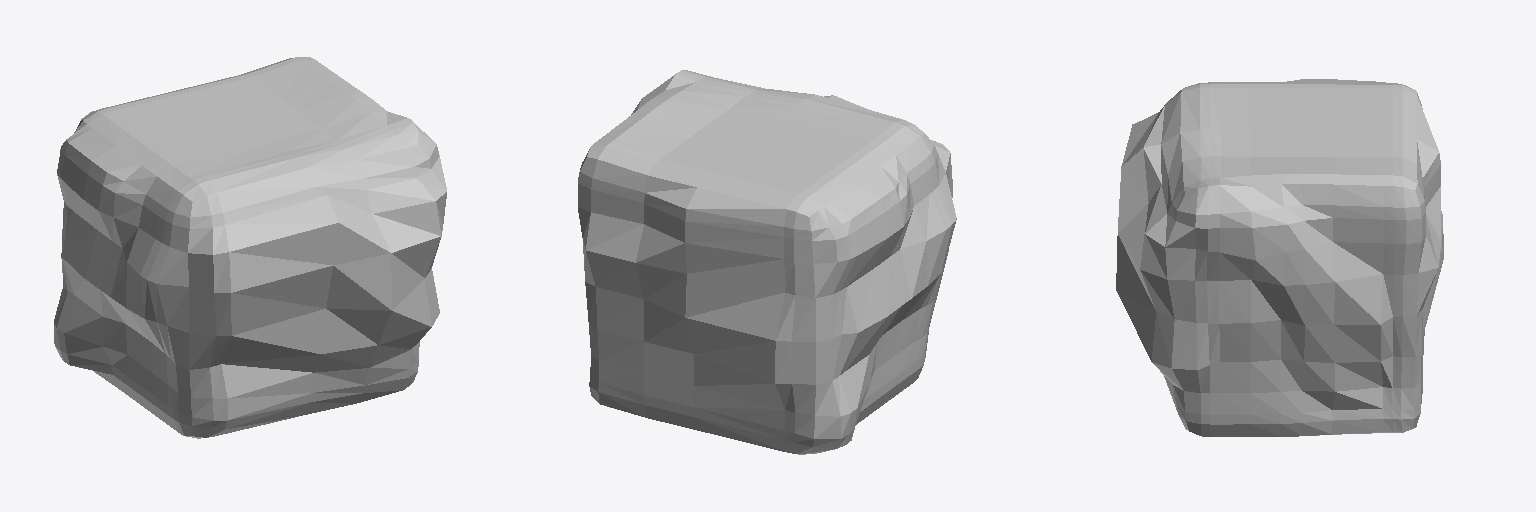
The model's file is env_level1_Canyon_Rock02.obj.
3 views of the same model, side by side, from view 1: azimuth 30°, elevation 25°; view 2: azimuth 150°, elevation 25°; view 3: azimuth 270°, elevation 25° (orthographic).
Parts seen in each view (by area): view 1: rockwall_a01; view 2: rockwall_a01; view 3: rockwall_a01.
Boxes of the visible parts, box(x1,y1,x2,y2) form: rockwall_a01: box(54, 57, 446, 438); rockwall_a01: box(578, 70, 956, 454); rockwall_a01: box(1116, 79, 1443, 436).
Size of the model in its own units: 1924 by 1642 by 1855.